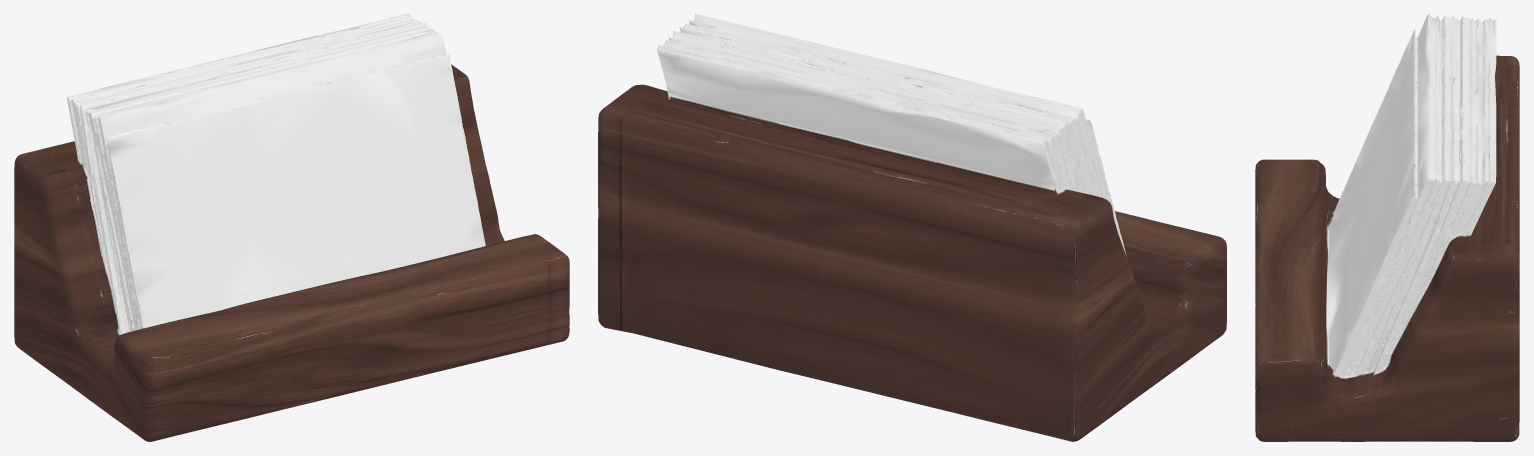
Rendered from card.glb.
The picture shows the model from 3 angles, left to right: view 1: azimuth 30°, elevation 25°; view 2: azimuth 150°, elevation 25°; view 3: azimuth 270°, elevation 25°; orthographic projection. The views are drawn at different scales.
Visible parts, largest first — view 1: Mesh_0; view 2: Mesh_0; view 3: Mesh_0.
Boxes of the visible parts, x1,y1,x2,y2 form: Mesh_0: (14, 14, 569, 441); Mesh_0: (598, 14, 1226, 441); Mesh_0: (1255, 14, 1519, 441).
Bounding box in the file's own units: 1.9 × 1.09 × 1.05.
Materials: 1 (1 with a texture image).
